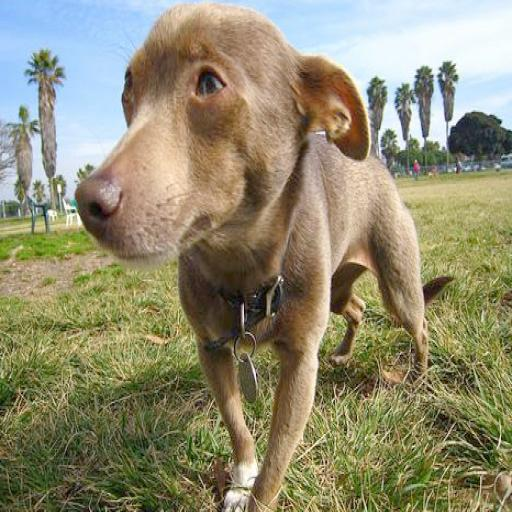dog_face: (85, 2, 370, 263)
